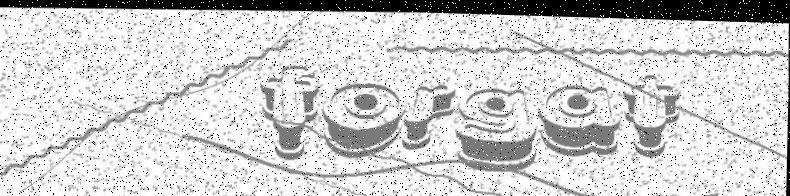a: (538, 80, 622, 154)
f: (259, 63, 319, 160)
g: (455, 84, 540, 169)
o: (322, 79, 404, 156)
r: (403, 80, 457, 149)
t: (625, 70, 683, 154)
